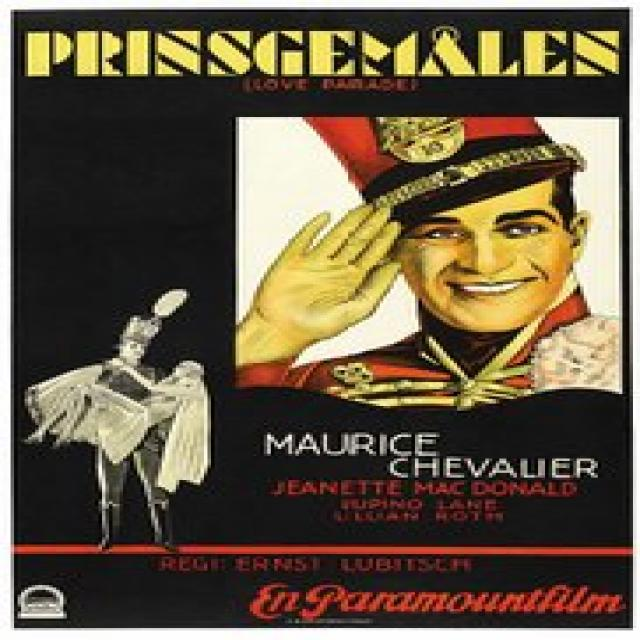movie-judul: (11, 12, 628, 105), (245, 413, 626, 543), (144, 548, 633, 626)
picture: (8, 109, 628, 545)
